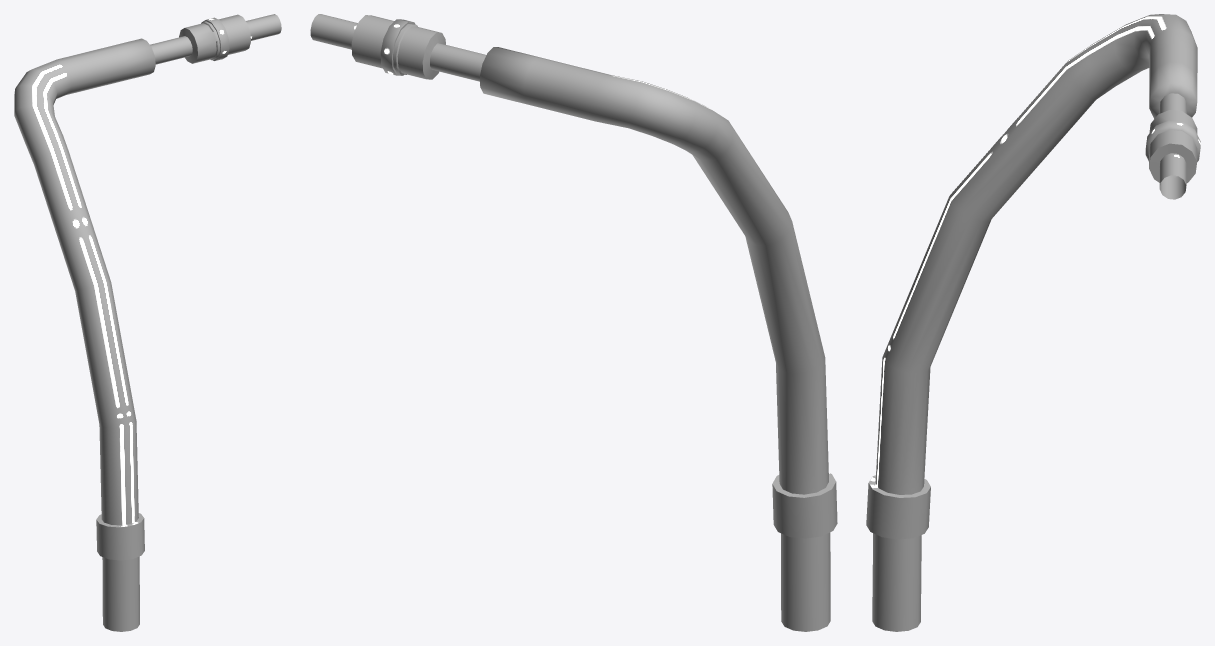
3 views of the same model, side by side, from view 1: azimuth 30°, elevation 25°; view 2: azimuth 150°, elevation 25°; view 3: azimuth 270°, elevation 25° (orthographic). The views are drawn at different scales.
Parts seen in each view (by area): view 1: KF_SM_Tube2; view 2: KF_SM_Tube2; view 3: KF_SM_Tube2.
Boxes of the visible parts, left/top/right/bottom form: KF_SM_Tube2: left=14, top=14, right=281, bottom=631; KF_SM_Tube2: left=310, top=14, right=837, bottom=631; KF_SM_Tube2: left=866, top=14, right=1200, bottom=631.
Bounding box in the file's own units: 240 × 389 × 189.
